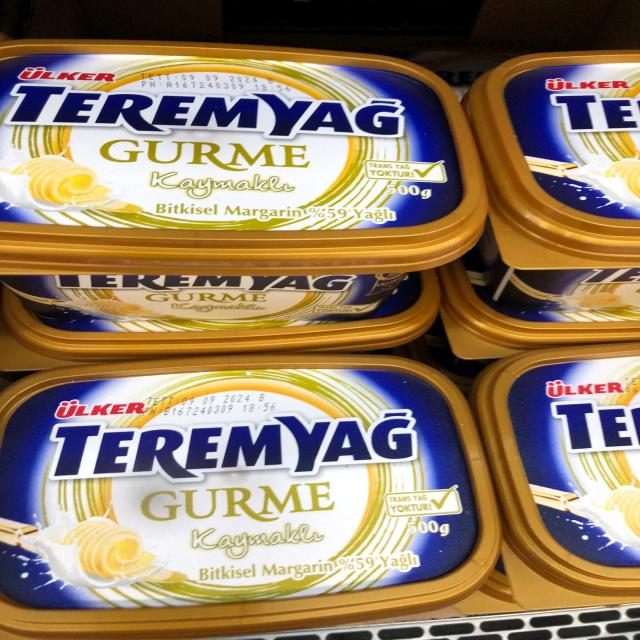margarine: (0, 353, 488, 640), (0, 44, 477, 312)
